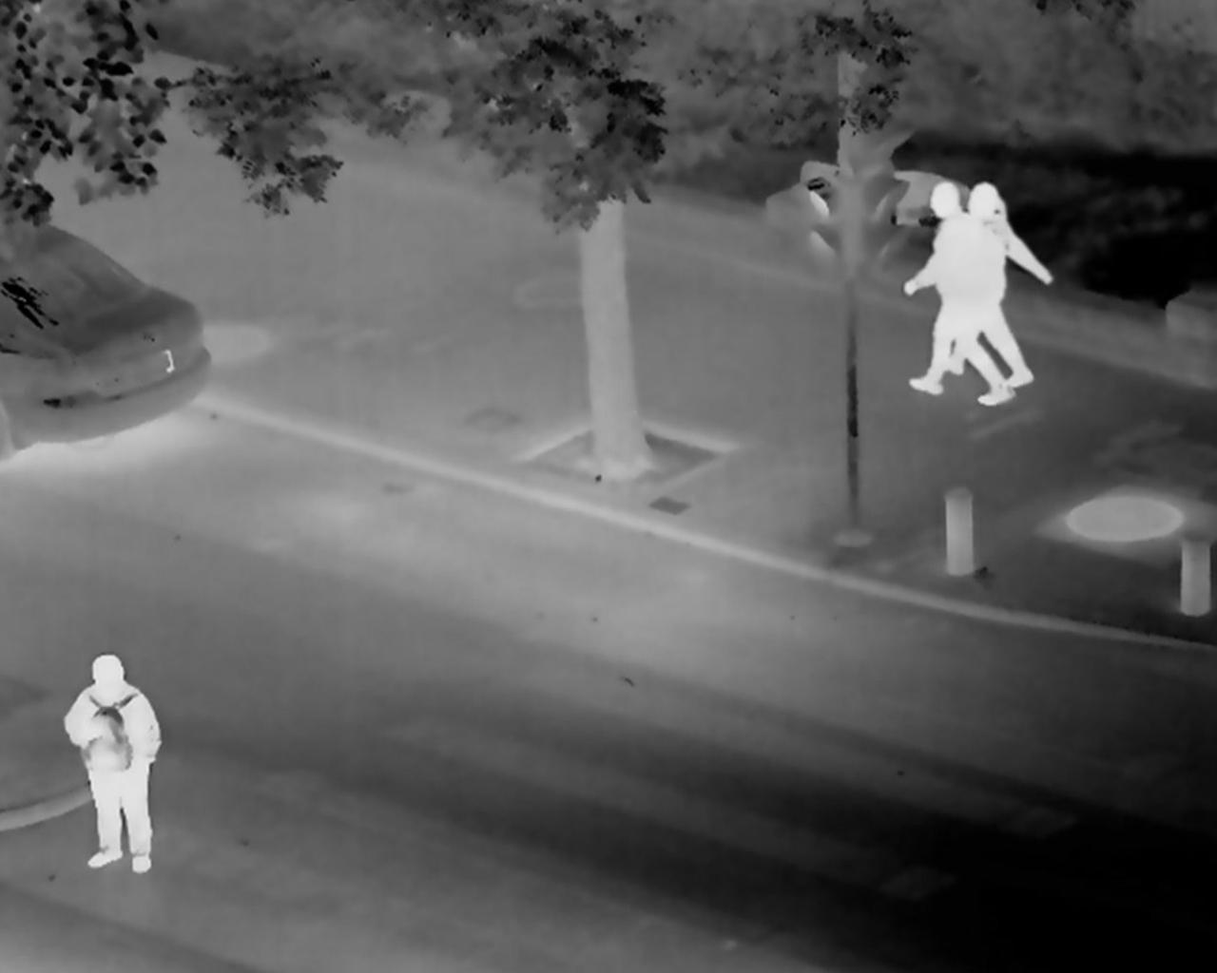person: (913, 179, 1059, 403), (49, 646, 183, 866)
